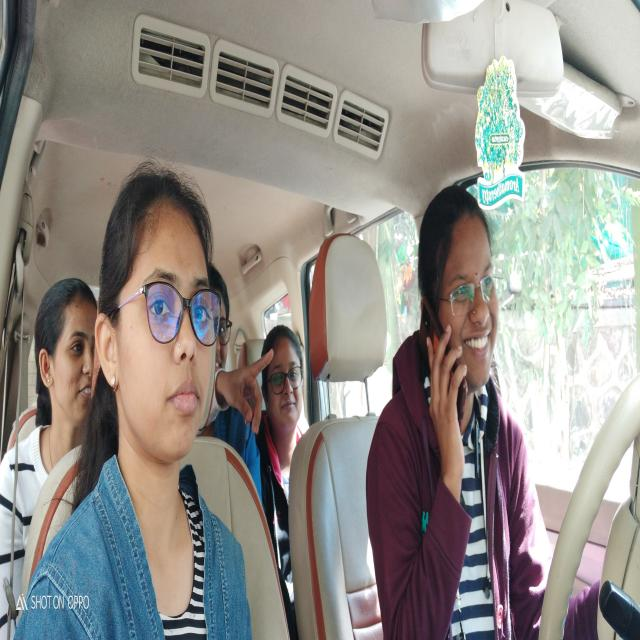mobile: (417, 293, 469, 425)
person: (96, 149, 218, 458), (411, 182, 506, 392), (210, 247, 260, 454), (31, 284, 98, 424), (265, 320, 307, 438)
